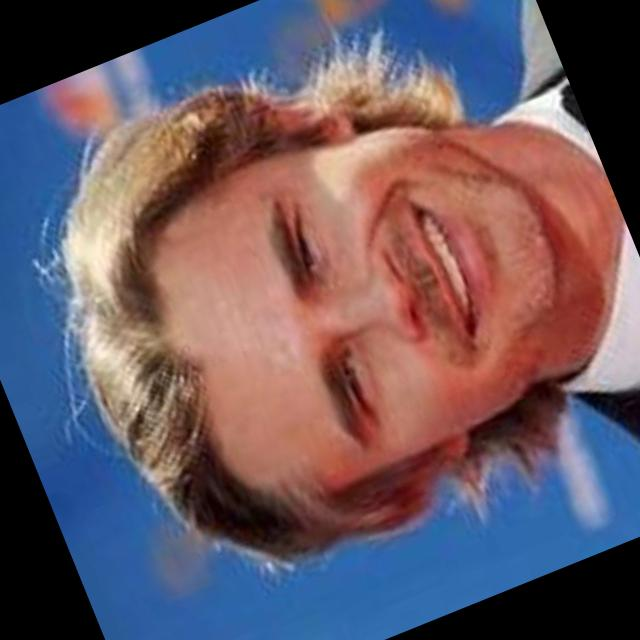bareface: (188, 80, 596, 482)
